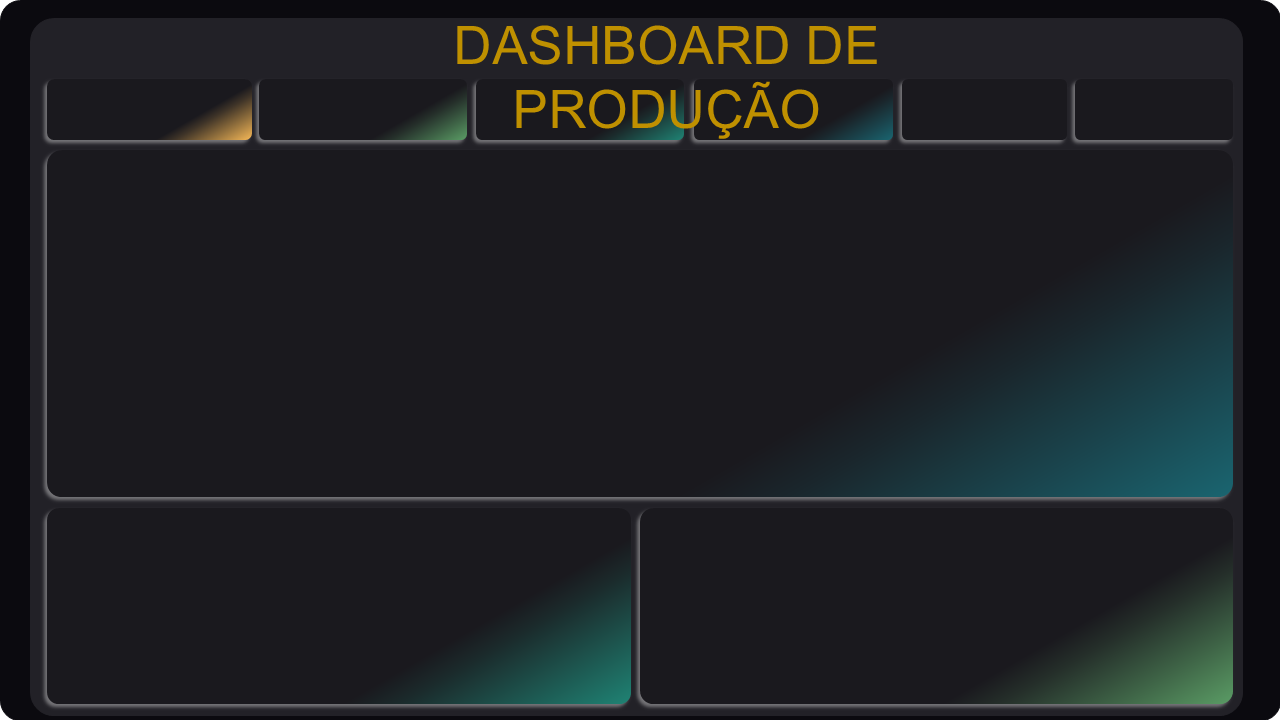

This screenshot's page, from the dashboard's own definition file:
{"tool":"powerbi","page":{"name":"Página 1","canvas":[1280,720],"ordinal":0},"visuals":[{"type":"cardVisual","fields":{"Data":["BaseProdução.Horas Trabalhadas"]},"box":[700.2,43.9,188,98.3],"z":0},{"type":"cardVisual","fields":{"Data":["BaseProdução.Total Aprovado"]},"box":[39.7,43.9,209.6,98.3],"z":1000},{"type":"cardVisual","fields":{"Data":["BaseProdução.Total Rejeitado"]},"box":[263.6,43.9,209.6,98.3],"z":2000},{"type":"cardVisual","fields":{"Data":["BaseProdução.Horas Produtivas"]},"box":[888.7,43.9,189.4,98.3],"z":2001},{"type":"cardVisual","fields":{"Data":["BaseProdução.Horas Paradas"]},"box":[473.4,43.9,209.8,97.8],"z":2002}]}

Visuals, with their boxes in screenshot pixels (x1, y1, x2, y2), scaled from the page's 1280x720 canvas onto the 1280x720 screenshot:
cardVisual - BaseProdução.Horas Trabalhadas: box(700, 44, 888, 142)
cardVisual - BaseProdução.Total Aprovado: box(40, 44, 249, 142)
cardVisual - BaseProdução.Total Rejeitado: box(264, 44, 473, 142)
cardVisual - BaseProdução.Horas Produtivas: box(889, 44, 1078, 142)
cardVisual - BaseProdução.Horas Paradas: box(473, 44, 683, 142)
